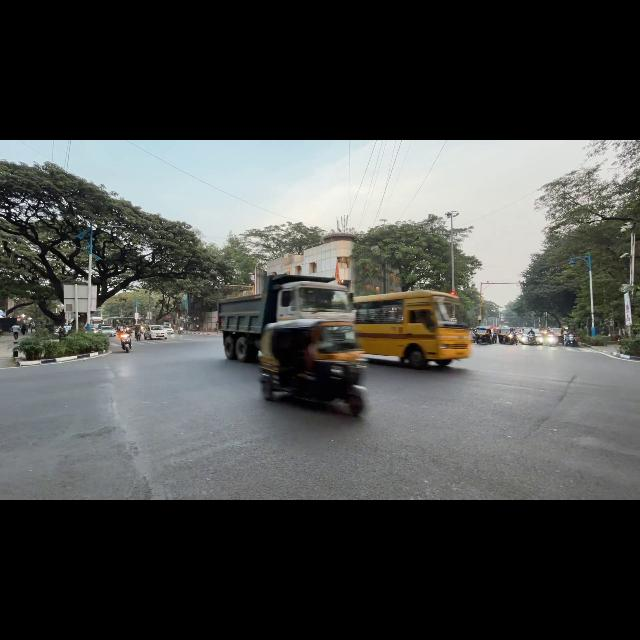bus: (354, 291, 470, 368)
car: (144, 325, 166, 339), (101, 326, 116, 336), (533, 328, 542, 344), (163, 325, 173, 334), (64, 325, 72, 332)
motorcycle: (118, 332, 132, 352), (565, 333, 579, 347), (544, 332, 557, 345), (527, 334, 536, 345), (507, 334, 516, 344), (135, 331, 141, 340), (178, 327, 183, 334)
